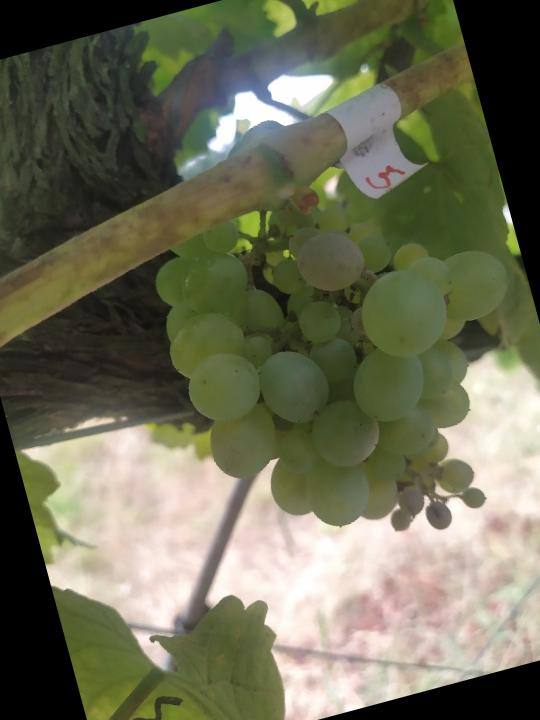grape: (131, 138, 540, 590)
